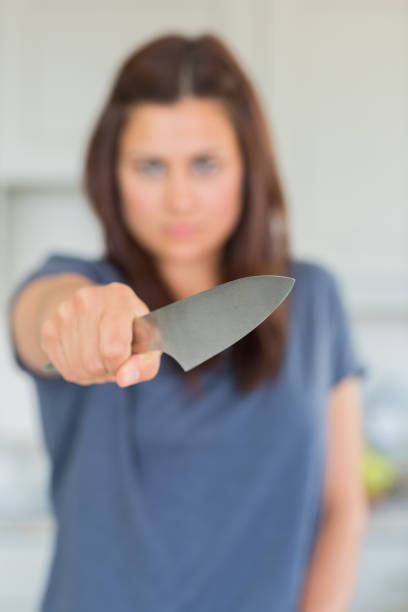knife: (132, 270, 298, 373)
